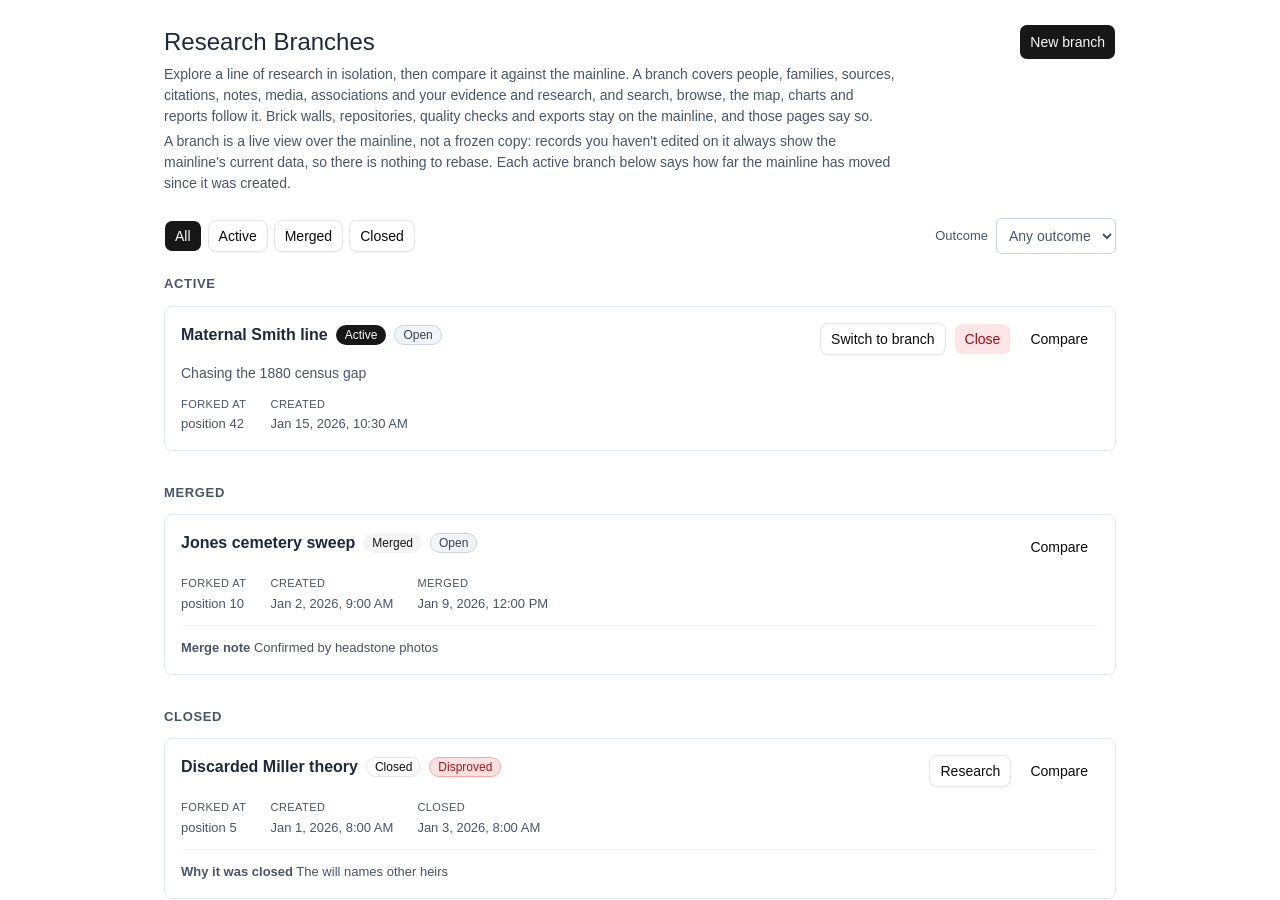
Test: Branches page › filters by status and by outcome
Expected: the link "Maternal Smith line" is shown, [181, 322, 328, 346]
Click the radio button labelled "Closed" at (382, 236), box [349, 220, 415, 252]
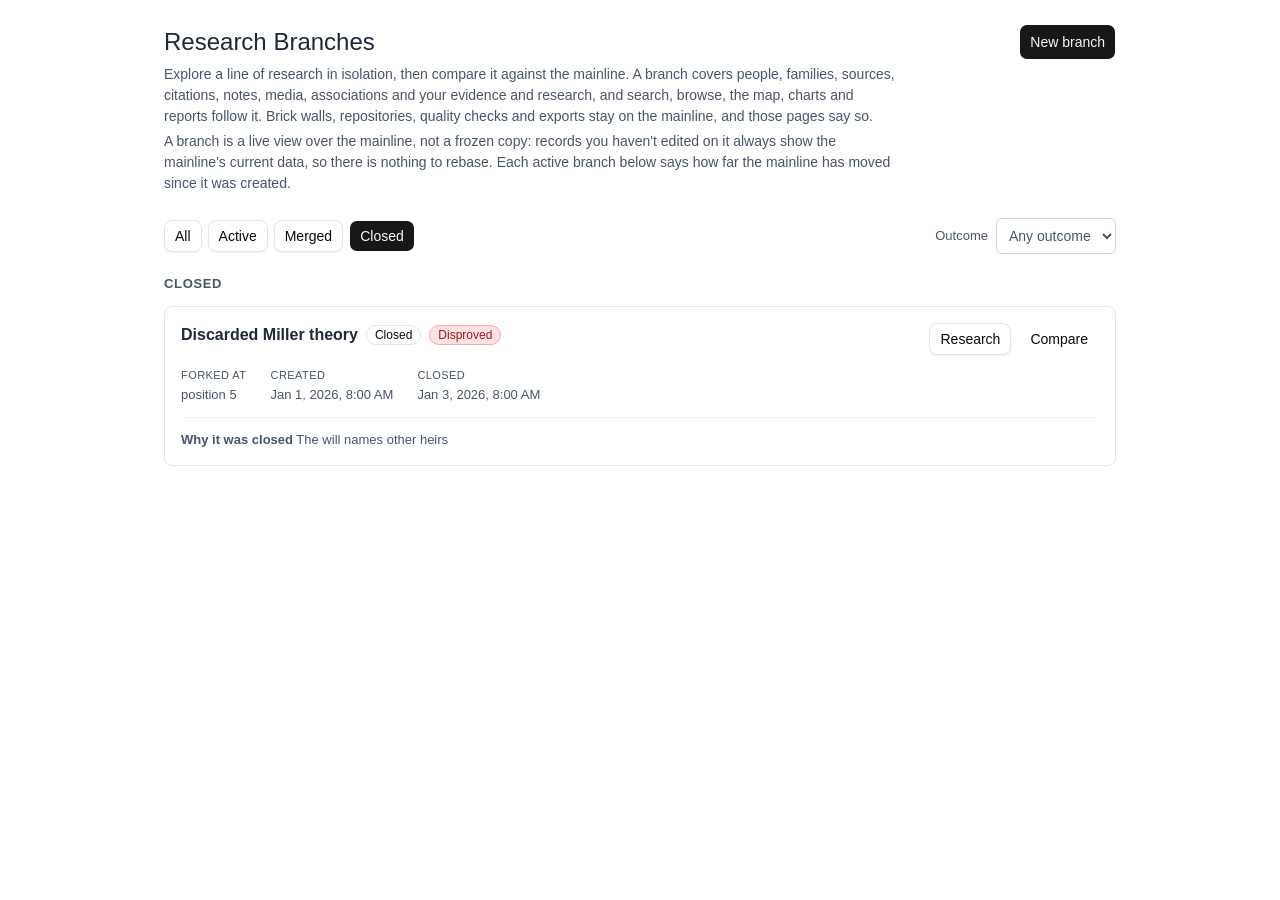
Expected: the link "Discarded Miller theory" is shown, [181, 322, 358, 346]
Now the link "Maternal Smith line" is gone
Click the radio button labelled "All" at (183, 236), box [164, 220, 202, 252]
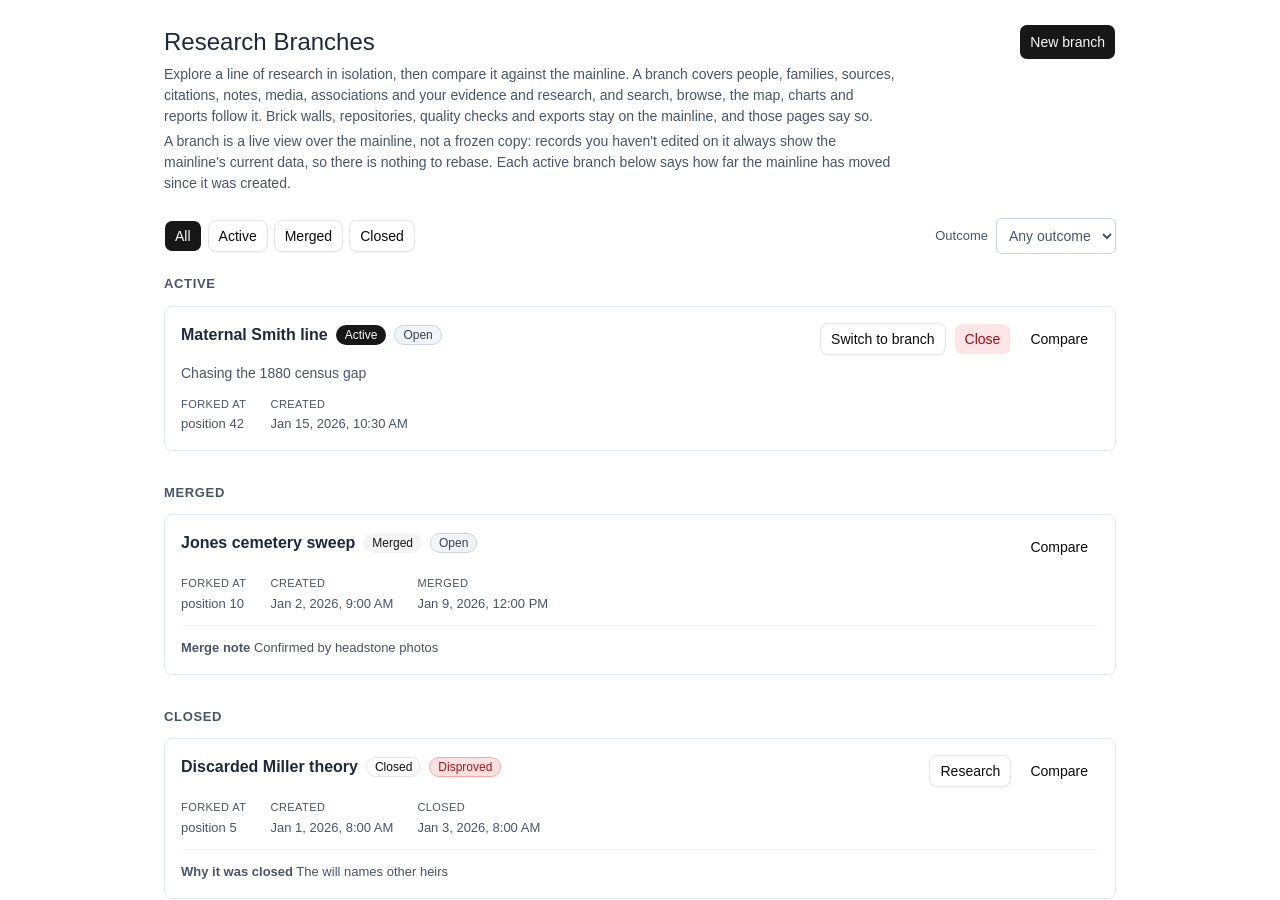
Select "Open" in the dropdown named "Filter by outcome" at (1056, 236), box [996, 218, 1116, 254]
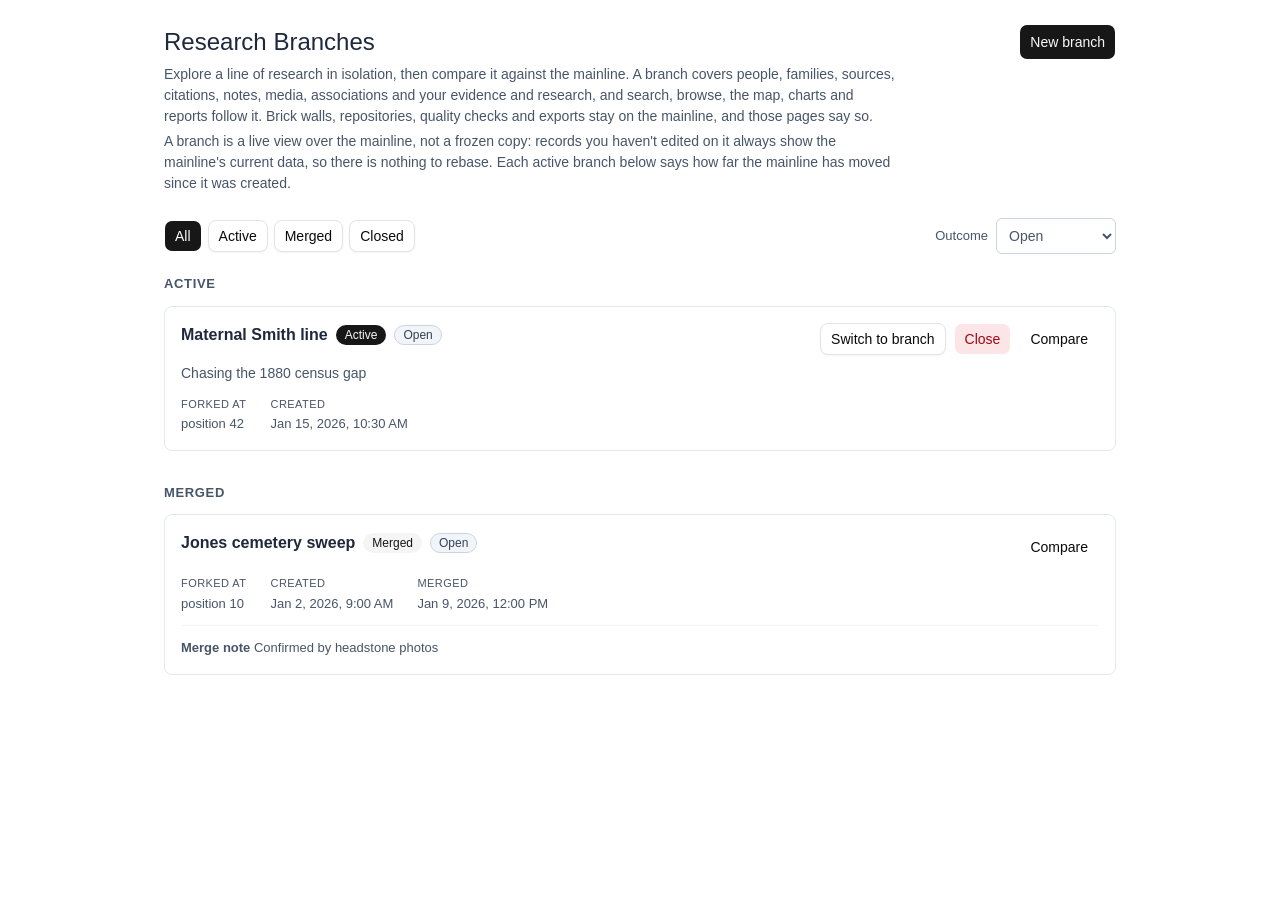
Now the link "Maternal Smith line" is shown, box [181, 322, 328, 346]
Now the link "Discarded Miller theory" is gone
Select "Superseded" in the dropdown named "Filter by outcome" at (1056, 236), box [996, 218, 1116, 254]
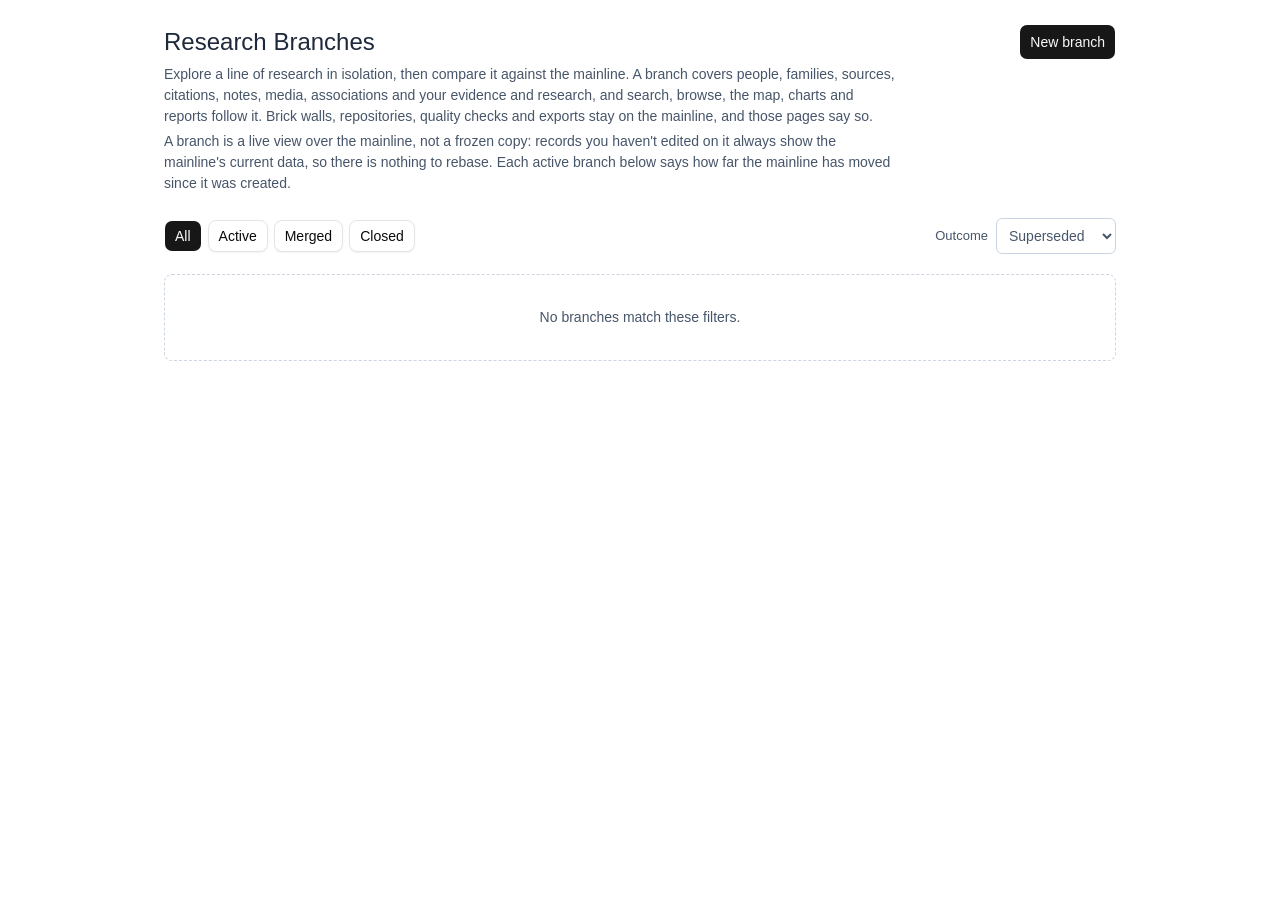
Now the text "No branches match these filters." is shown, box [540, 309, 740, 325]
